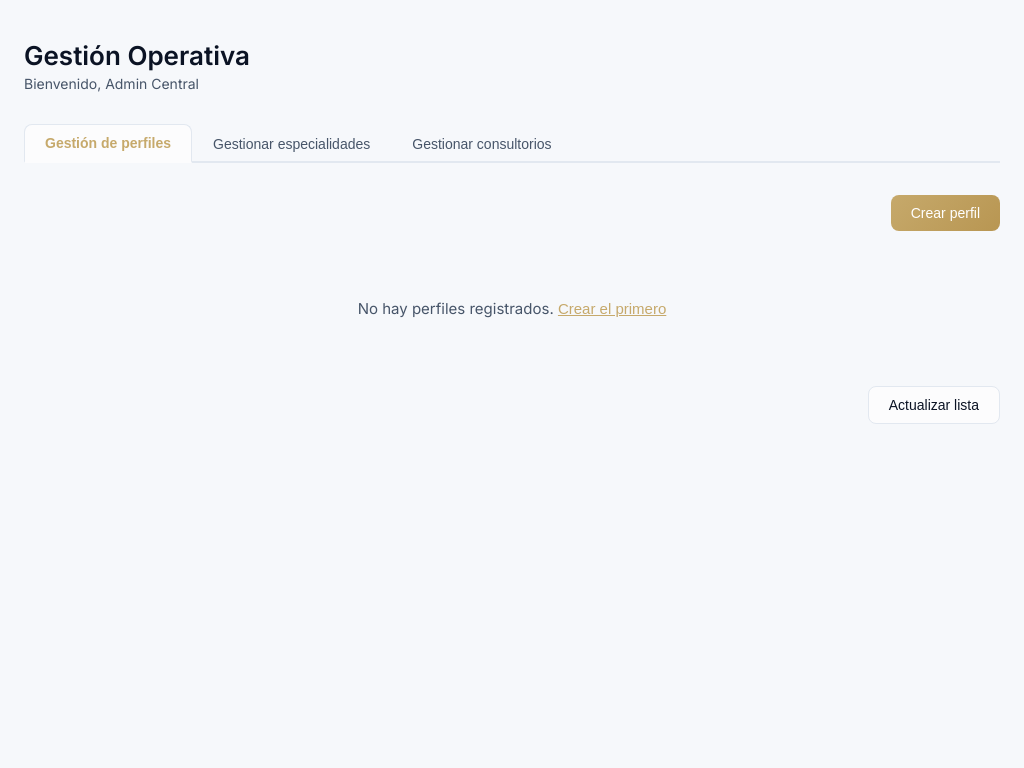
AdminProfilesPage SPEC-017 exclusive mode navigation › exposes management selector with the updated accessible name
Expected: the navigation bar named "Selector de gestión" is shown, [24,124,1000,163]
Expected: the button "Gestión de perfiles" is shown, [24,124,192,163]
Click the button with test id "btn-mode-offices".
click(482, 144)  # box [391,124,573,163]
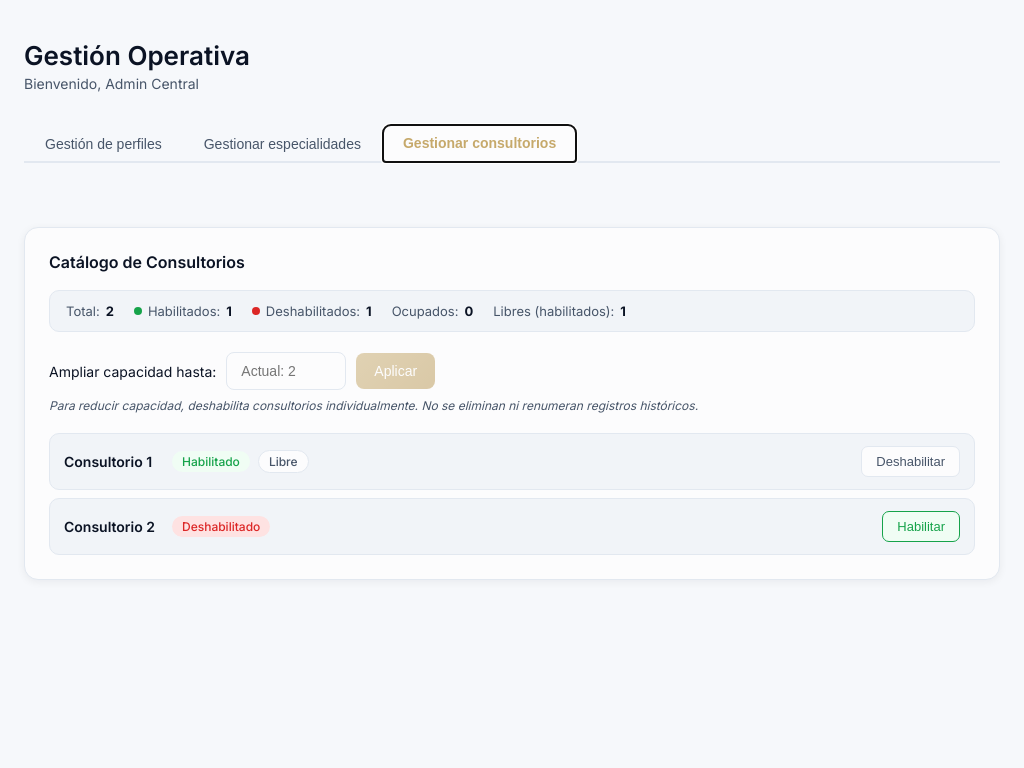
Expected: the navigation bar named "Selector de gestión" is shown, [24,124,1000,163]
Click the button with test id "btn-mode-specialties".
click(282, 144)  # box [183,124,382,163]
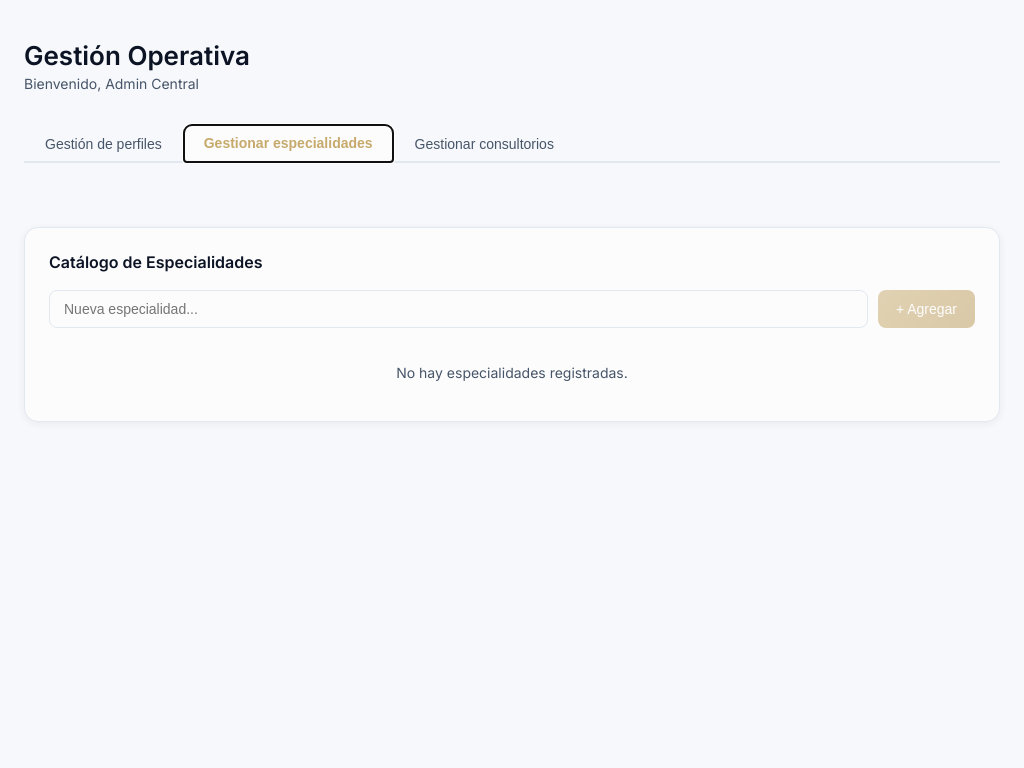
Expected: the navigation bar named "Selector de gestión" is shown, [24,124,1000,163]
Result: the element with test id "office-manager" is gone
